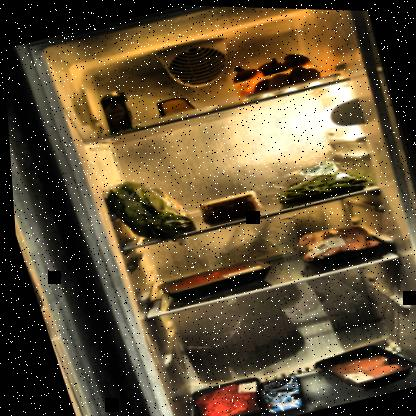beef: (147, 249, 276, 310)
cheese: (152, 89, 198, 122)
chicken: (301, 328, 415, 402), (282, 208, 386, 279)
chocolate: (247, 369, 304, 415)
eggs: (247, 58, 324, 99)
green_beans: (266, 154, 376, 209)
ground_beef: (174, 370, 267, 415)
heavy_cream: (95, 88, 134, 135)
onion: (224, 44, 319, 103)
spinach: (98, 167, 193, 249)
